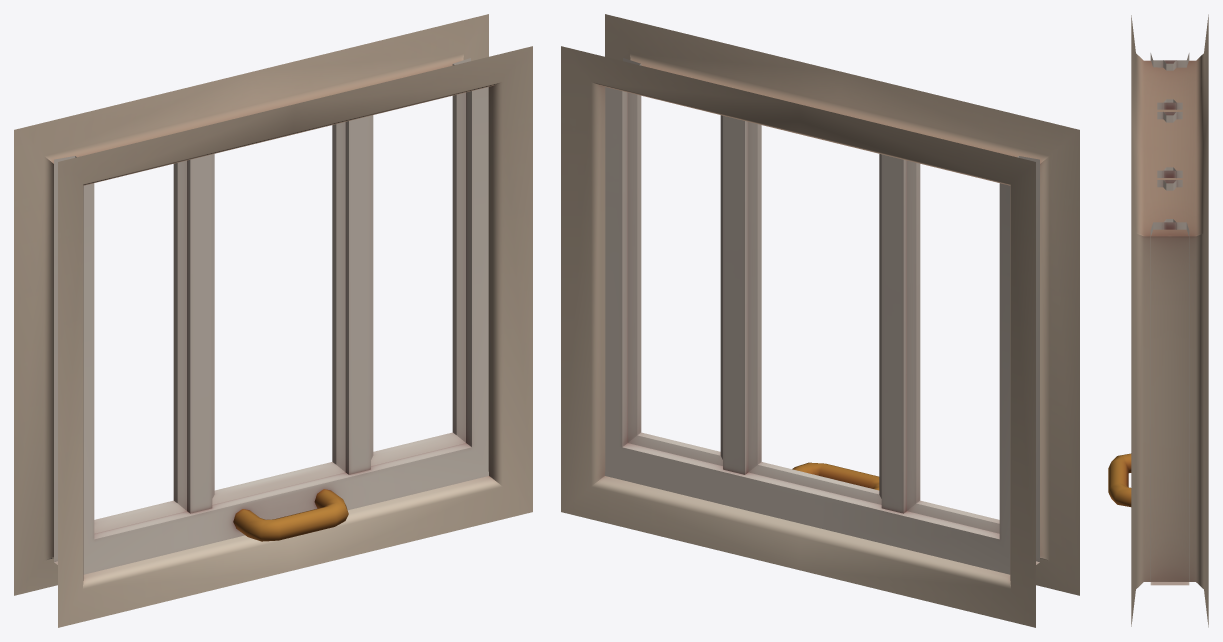
File: window_01.fbx
3 views of the same model, side by side, from view 1: azimuth 30°, elevation 25°; view 2: azimuth 150°, elevation 25°; view 3: azimuth 270°, elevation 25° (orthographic). The views are drawn at different scales.
Parts seen in each view (by area): view 1: window_01_ready; view 2: window_01_ready; view 3: window_01_ready.
Part boxes in pixels (<box>): window_01_ready: <box>14,14,532,627</box>; window_01_ready: <box>561,14,1079,627</box>; window_01_ready: <box>1108,14,1208,627</box>.
Bounding box in the file's own units: 153 × 143 × 31.66.
